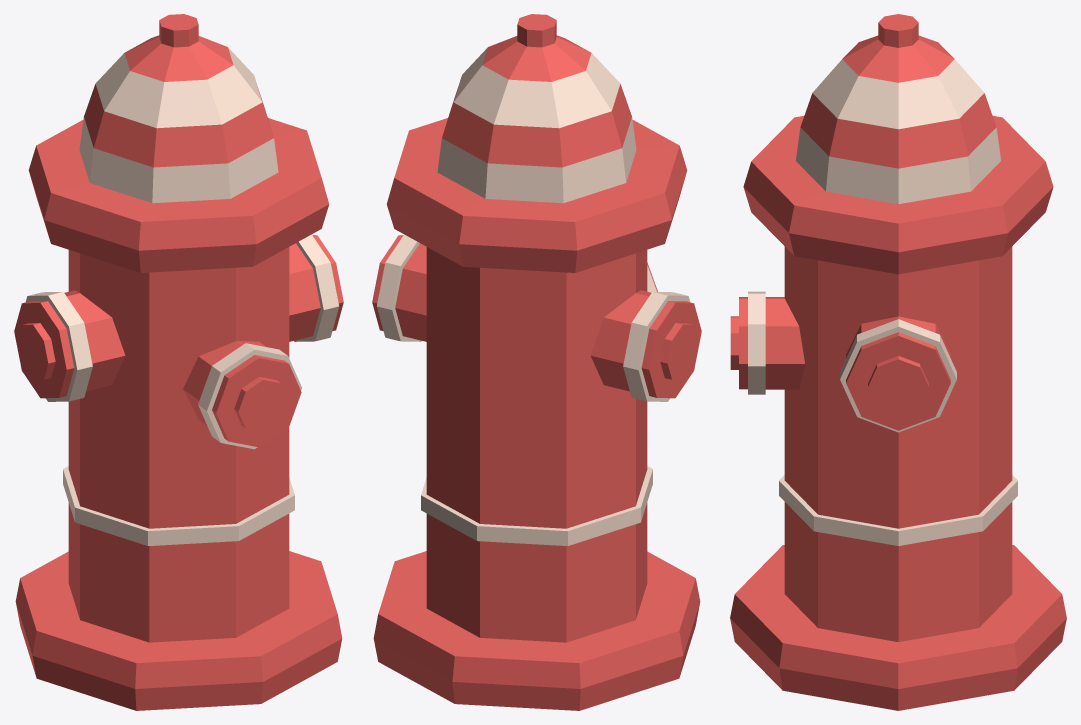
Rendered from Hidrante.fbx.
3 renders of one model, left to right at view 1: azimuth 30°, elevation 25°; view 2: azimuth 150°, elevation 25°; view 3: azimuth 270°, elevation 25°, orthographic.
Parts seen in each view (by area): view 1: hydrant; view 2: hydrant; view 3: hydrant.
Boxes of the visible parts, box(x1,y1,x2,y2) form: hydrant: box(14, 14, 343, 710); hydrant: box(372, 14, 701, 710); hydrant: box(730, 14, 1066, 710).
Size of the model in its own units: 51.54 by 105 by 51.54.
